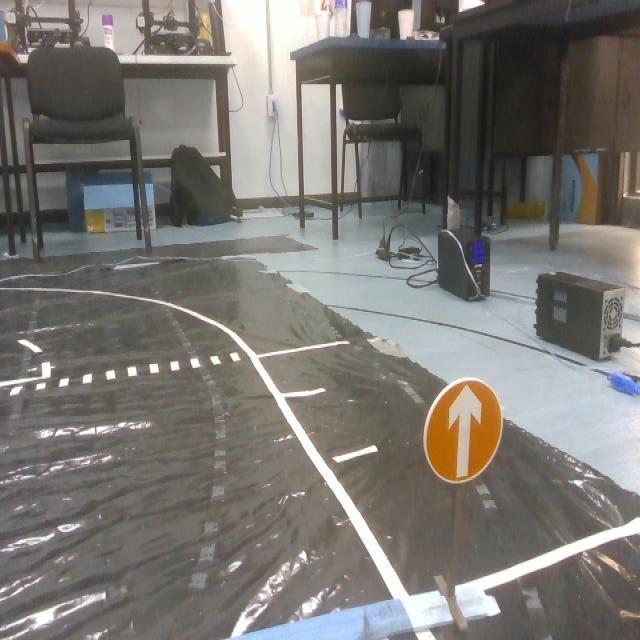right_turn: (413, 367, 502, 485)
